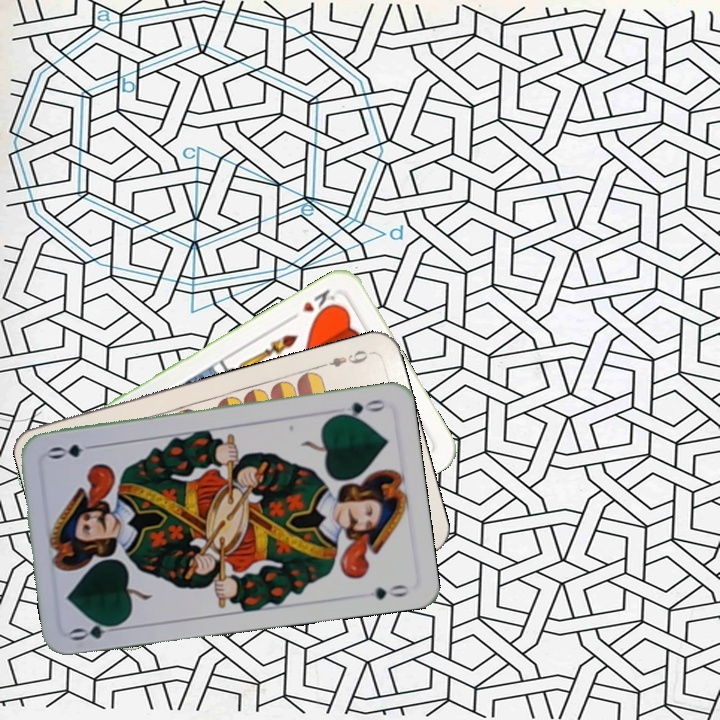E9: (316, 346, 374, 371)
GO: (67, 616, 126, 644), (330, 395, 388, 421)
HK: (298, 285, 341, 321)
